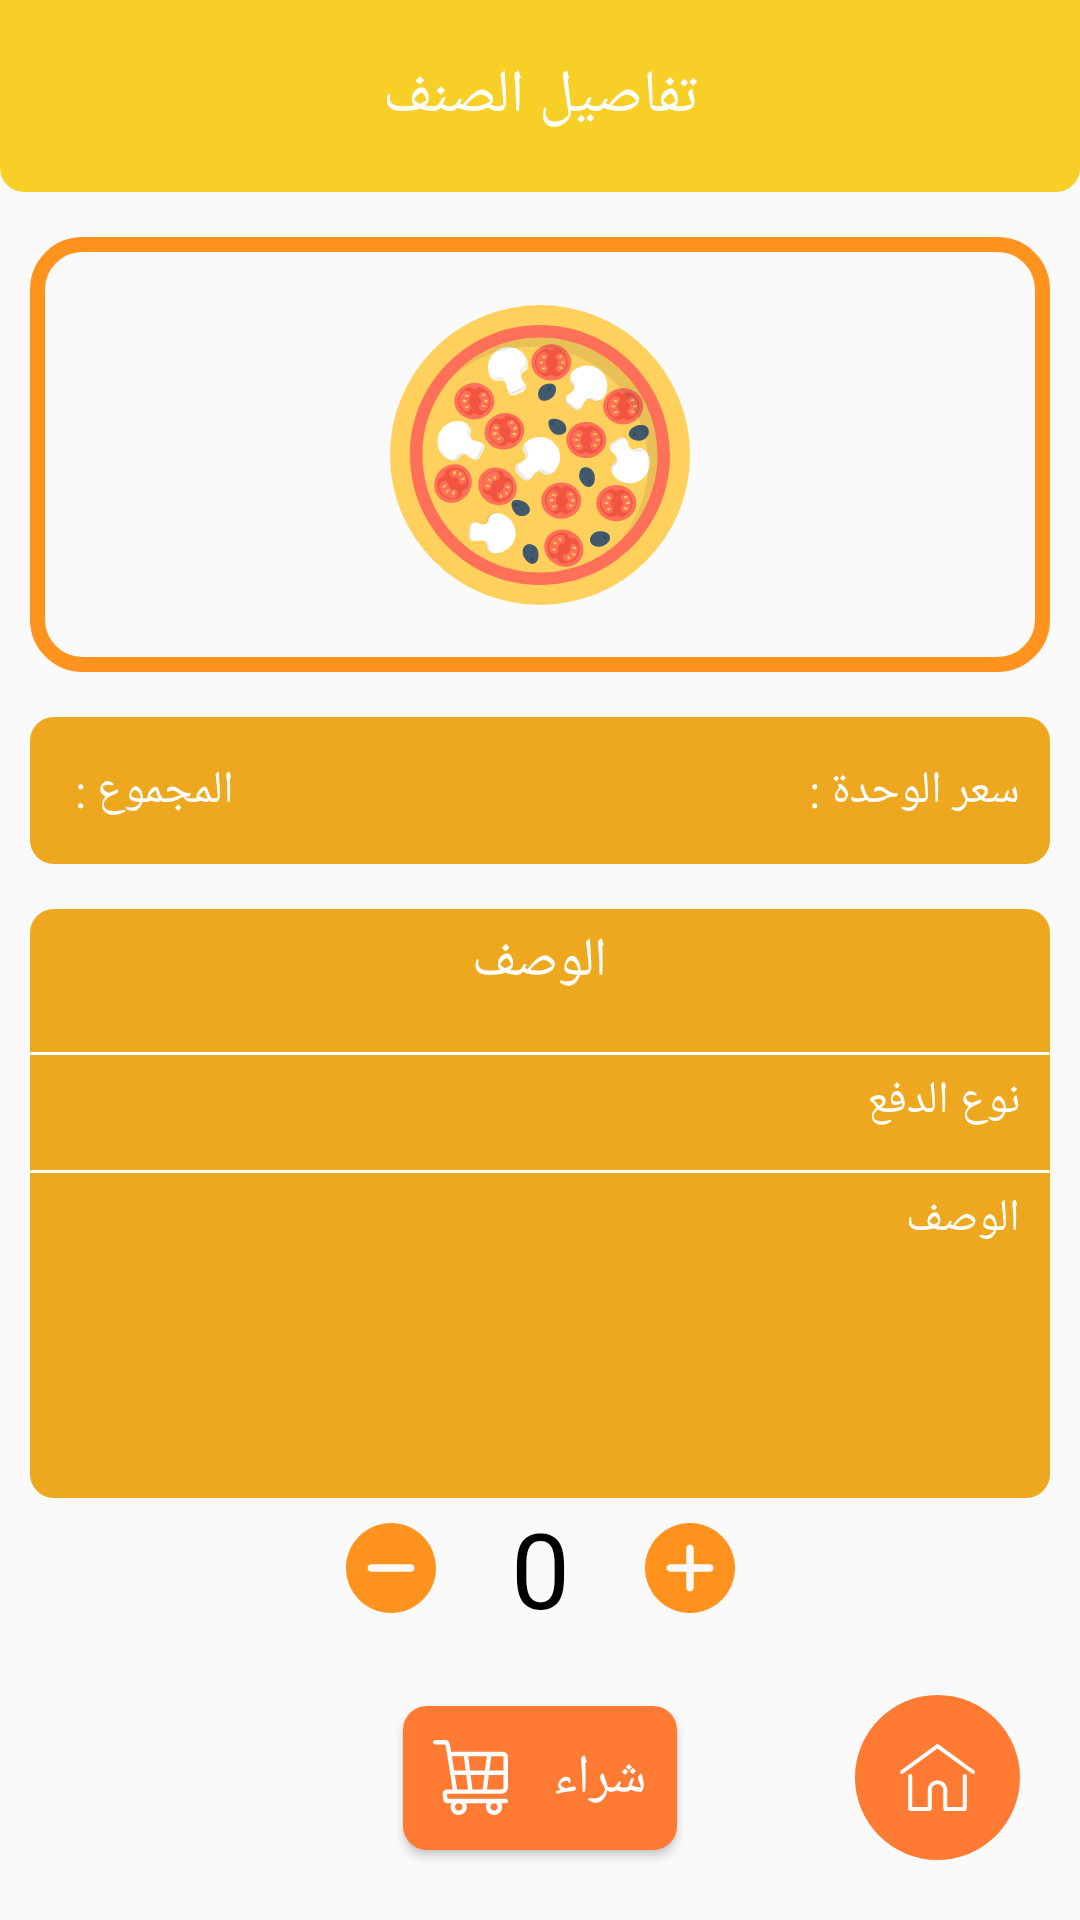

Where to tap for icons on this 1080x1920 app screen, as point (x, y):
home: point (937, 1777)
minus: point (391, 1568)
plus: point (690, 1568)
